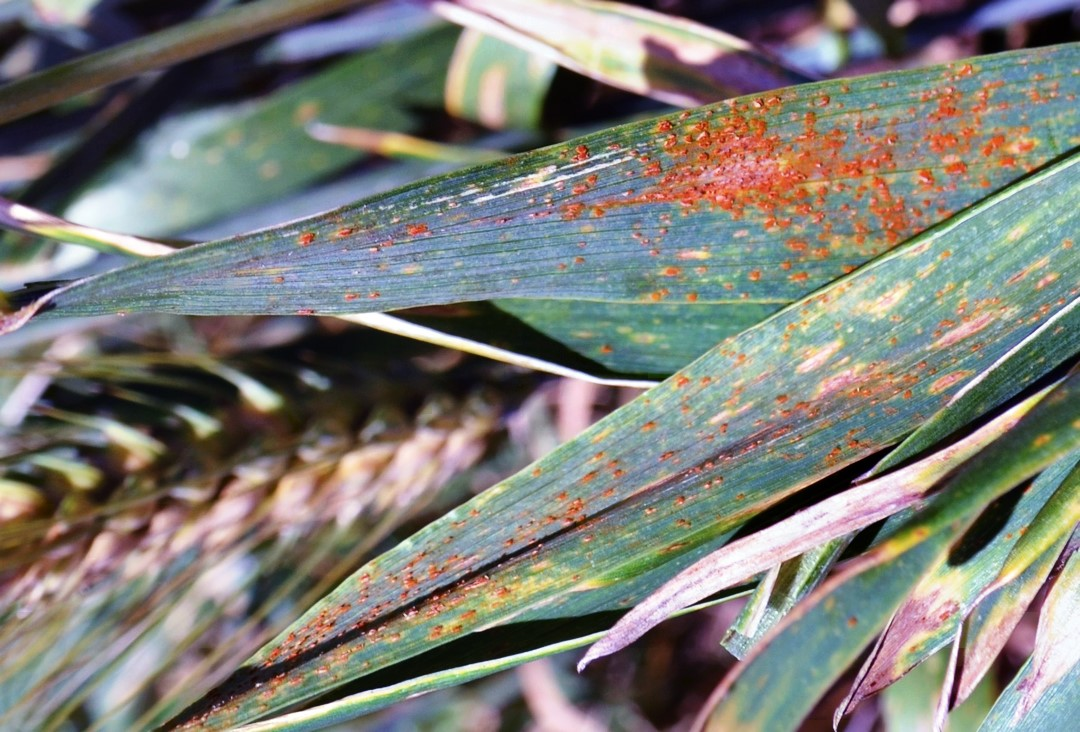Leaf Rust: (527, 78, 1033, 484)
